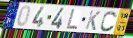0: (15, 5, 32, 28)
4: (50, 7, 65, 31), (31, 6, 46, 29)
C: (100, 10, 119, 33)
K: (84, 9, 102, 32)
L: (66, 8, 80, 30)
